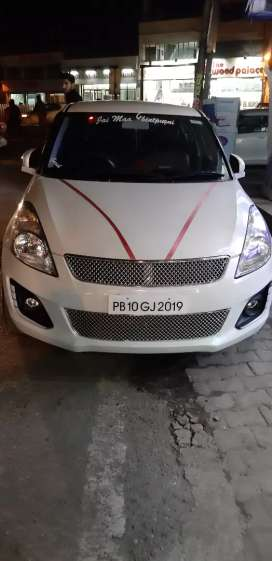license_plate: (109, 294, 184, 315)
